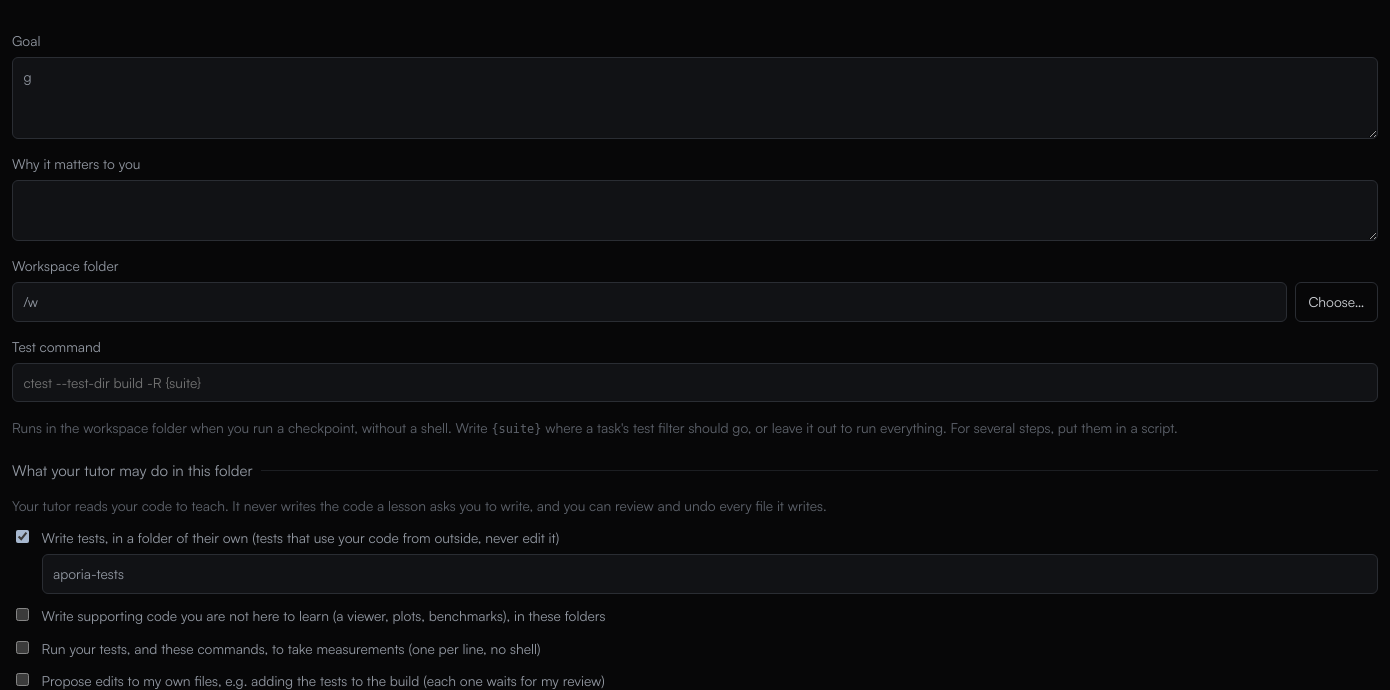
imported files in the project settings › says when there are none, and the workspace can be typed
The image size is (1390, 690).
Clear the field labelled "Workspace folder" at (649, 302), box [12,282,1287,322]
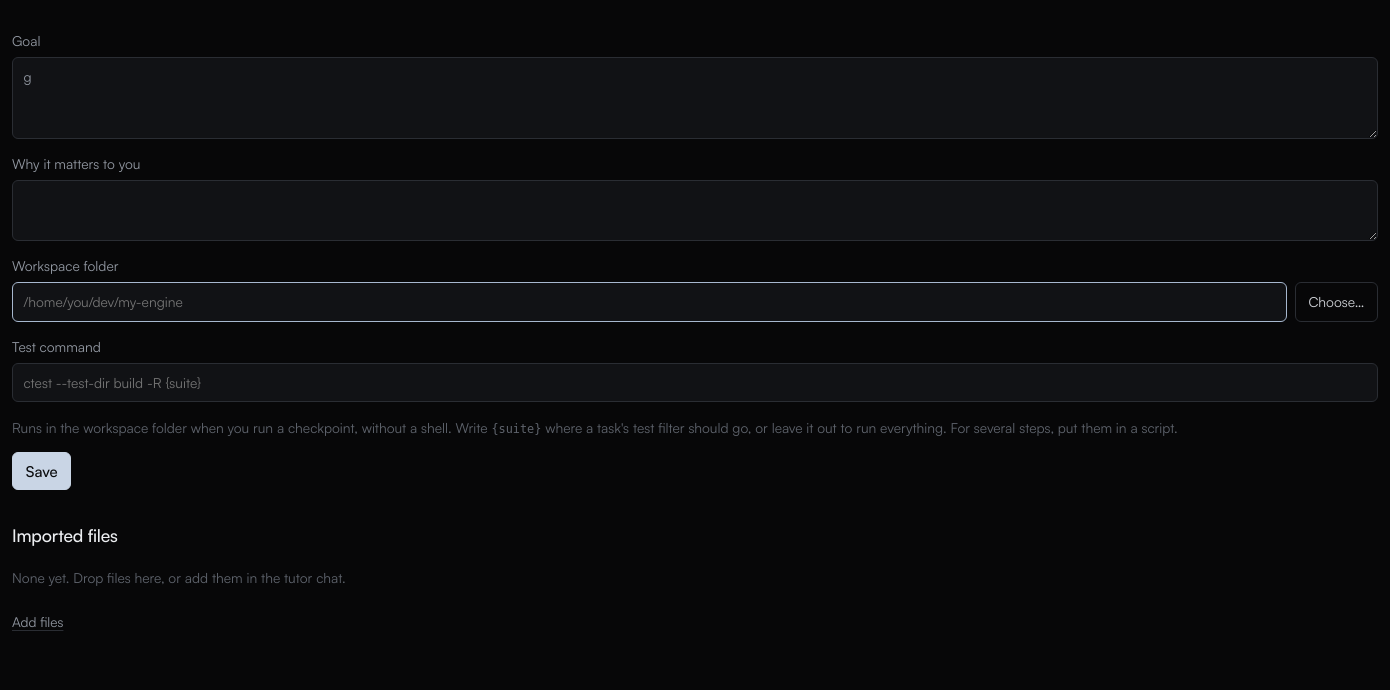
expect the text "What your tutor may do" is gone: met
Type "/other" into the field labelled "Workspace folder" at (649, 302), box [12,282,1287,322]
(page scrolled)
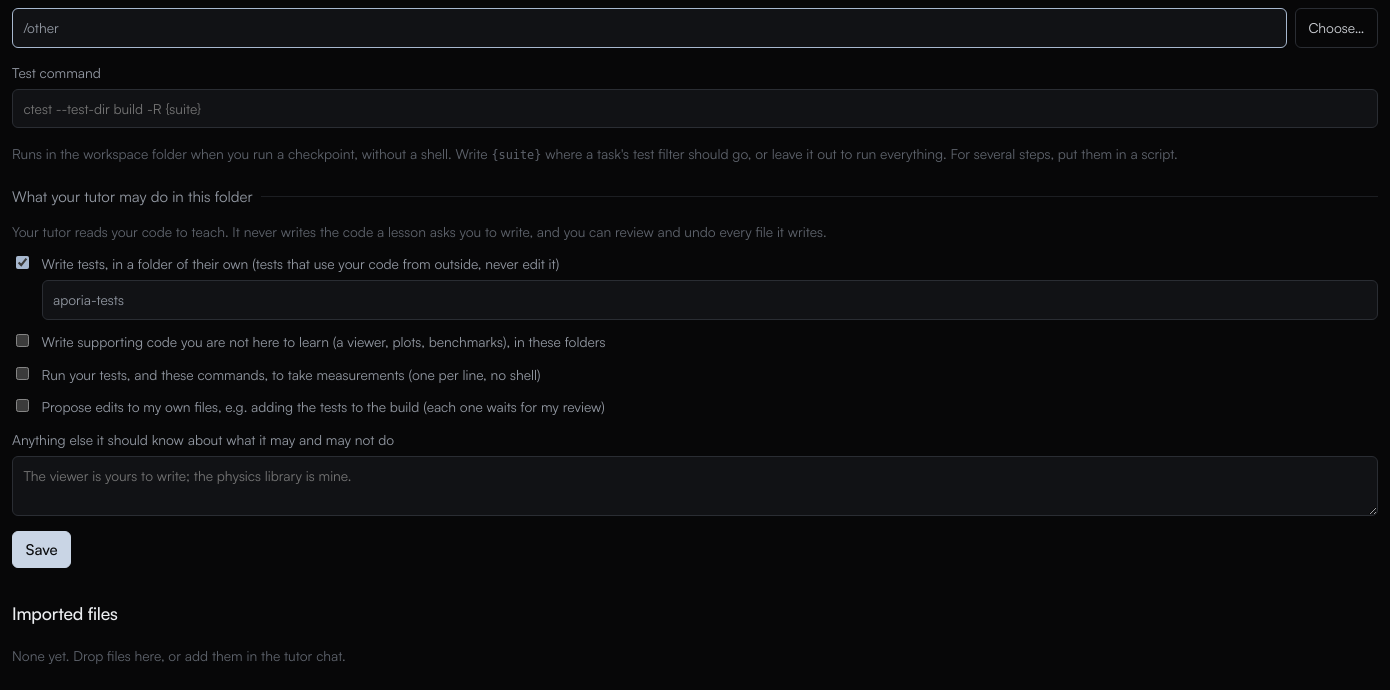
expect the element "What your tutor may do" is shown: met, box [12,185,1378,516]
